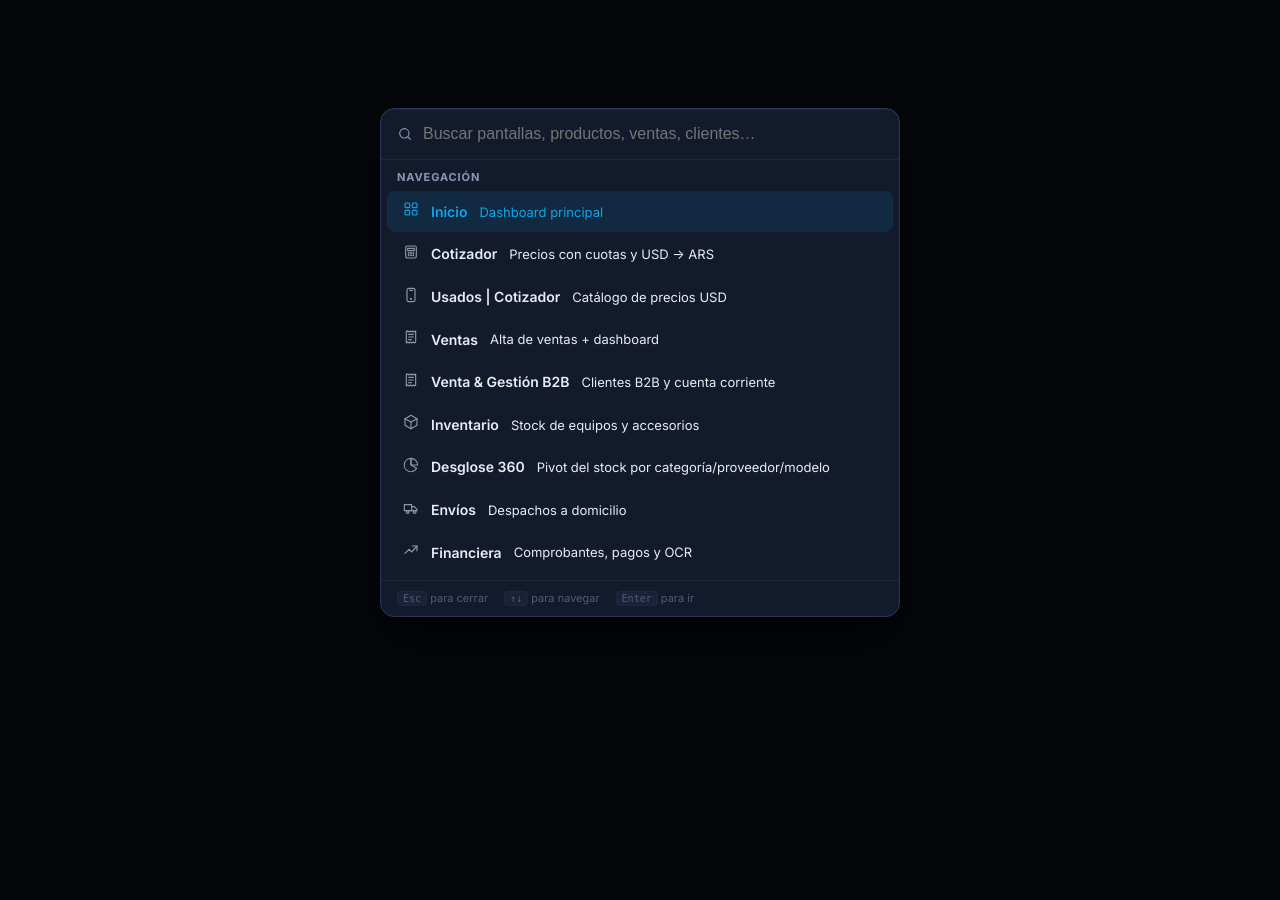
Test case: CommandPalette › renderiza categorías solo cuando tienen resultados
In the field with placeholder "Buscar pantallas, productos, ventas, clientes…": [653, 134] box [423,109,883,159], type "juan"
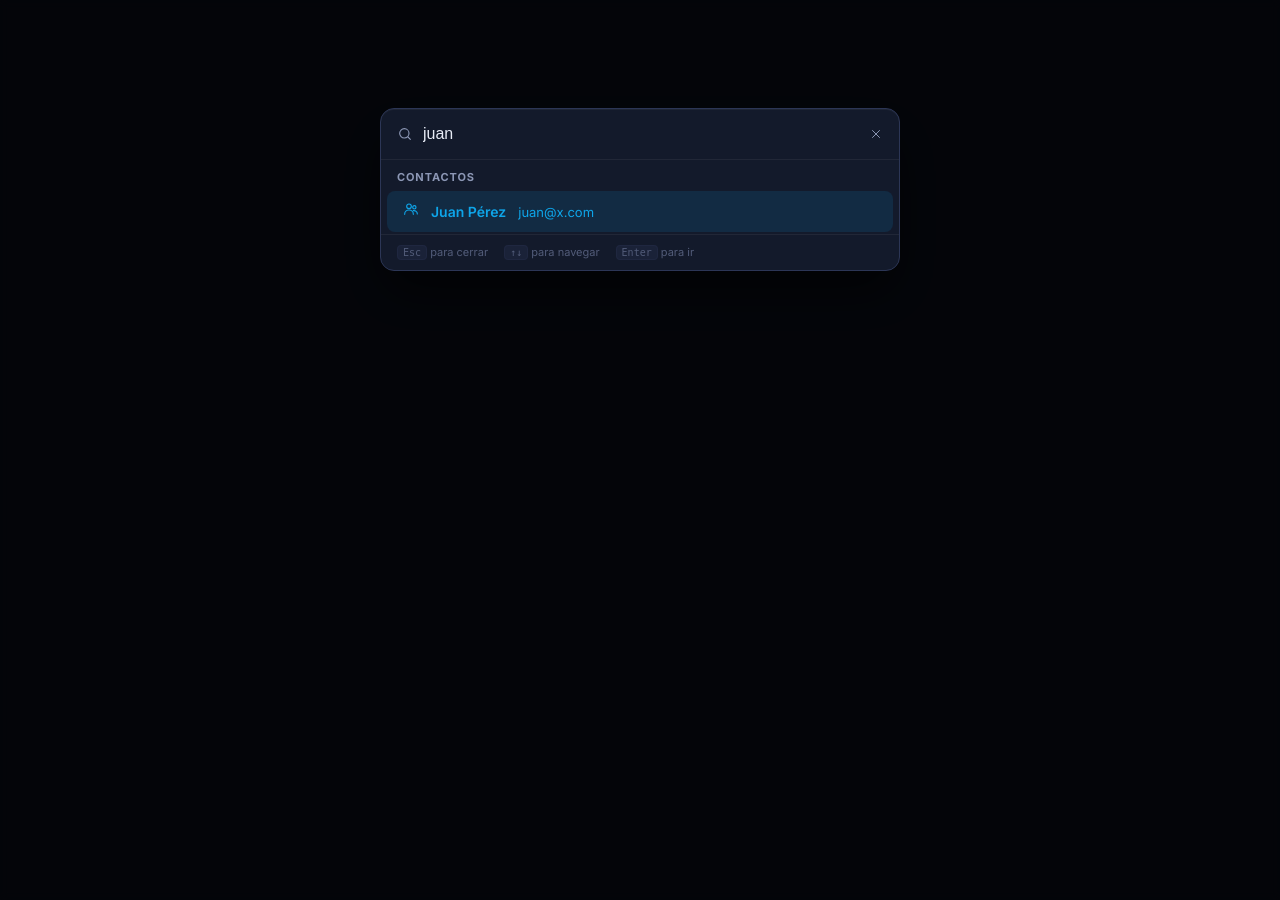
Expected: the text "Productos" is not shown
Now the text "Contactos" is shown, box [397,170,475,184]
Now the text "Juan Pérez" is shown, box [431,202,506,222]
